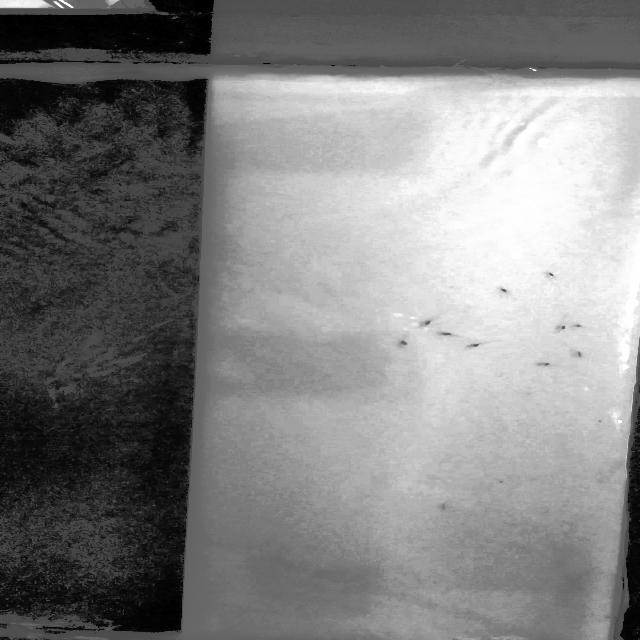shrimp: (488, 284, 522, 297), (390, 335, 414, 350), (537, 267, 560, 282), (537, 356, 556, 372), (465, 339, 490, 351), (566, 346, 586, 360), (436, 330, 462, 340), (548, 321, 571, 332), (413, 317, 438, 327), (572, 316, 584, 333)
